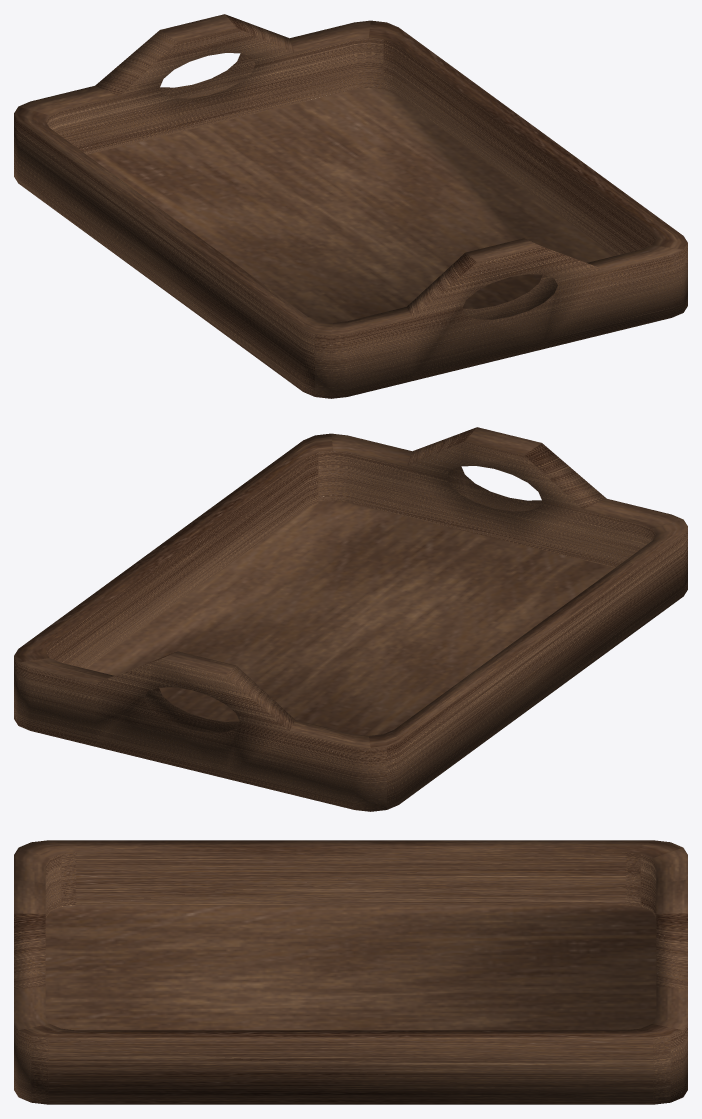
The model's file is khay.fbx.
3 views of the same model, one above another, from view 1: azimuth 30°, elevation 25°; view 2: azimuth 150°, elevation 25°; view 3: azimuth 270°, elevation 25° (orthographic). The views are drawn at different scales.
Visible parts, largest first — view 1: khay; view 2: khay; view 3: khay.
Part boxes in pixels (<box>): khay: <box>14,14,687,398</box>; khay: <box>14,427,687,811</box>; khay: <box>14,840,687,1104</box>.
Bounding box in the file's own units: 59.97 × 15.73 × 86.61.
